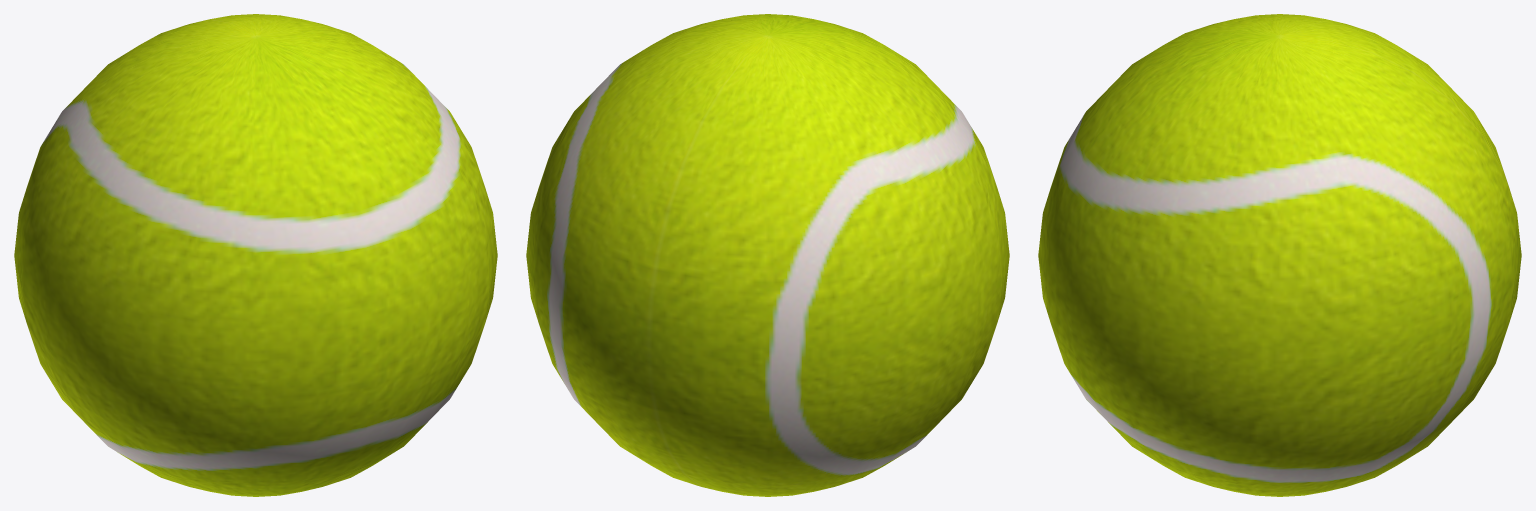
File: t_ball.glb
3 renders of one model, left to right at view 1: azimuth 30°, elevation 25°; view 2: azimuth 150°, elevation 25°; view 3: azimuth 270°, elevation 25°, orthographic.
Parts seen in each view (by area): view 1: Sphere; view 2: Sphere; view 3: Sphere.
Part boxes in pixels (<box>): Sphere: <box>14,14,497,496</box>; Sphere: <box>526,14,1009,496</box>; Sphere: <box>1038,14,1521,496</box>.
Bounding box in the file's own units: 0.0965 × 0.0965 × 0.0965.
Materials: 1 (1 with a texture image).
